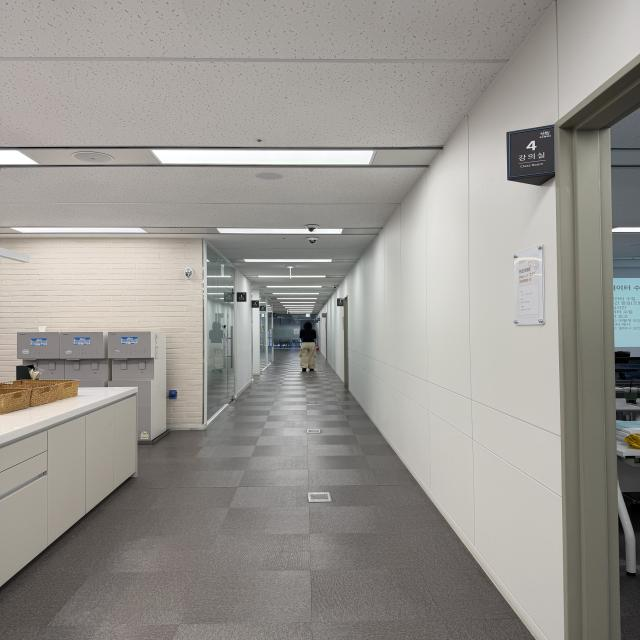sign: (507, 127, 554, 178)
